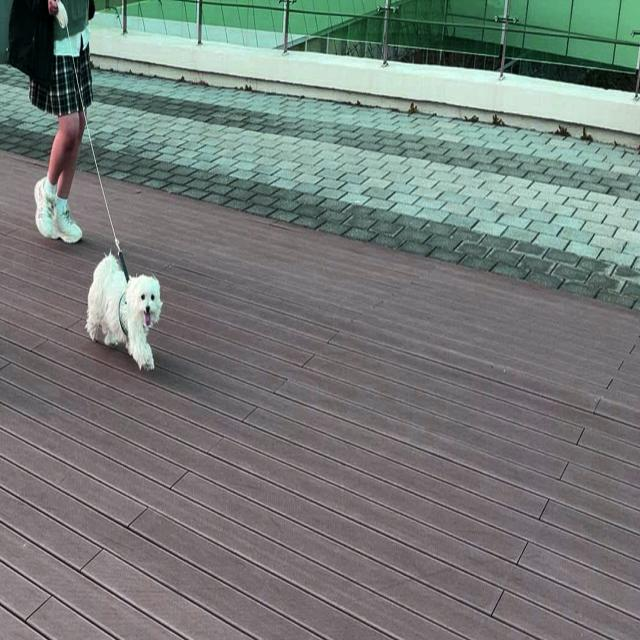Leashed_Dog: (65, 93, 163, 373)
